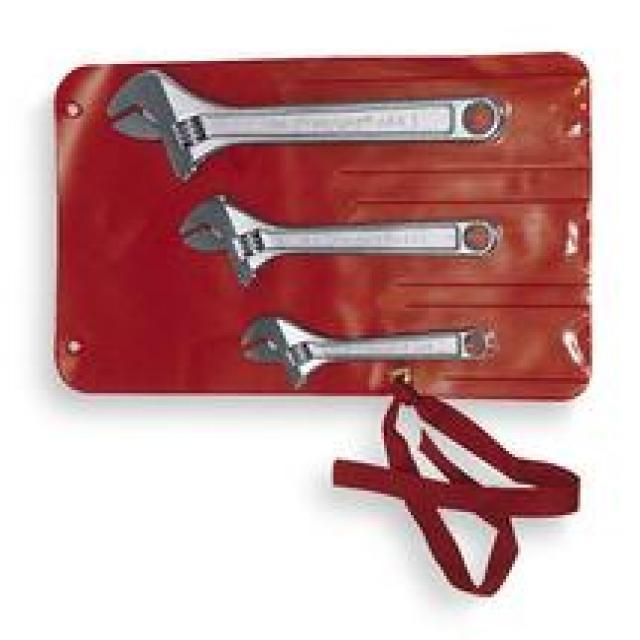wrench: (101, 62, 509, 188), (173, 186, 507, 295), (232, 306, 504, 392)
